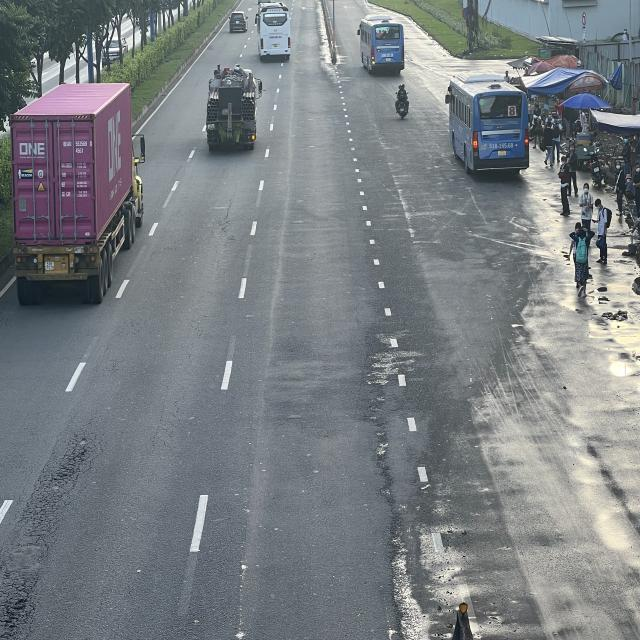car: (230, 9, 250, 33)
coach: (448, 80, 534, 177), (356, 15, 404, 76), (257, 2, 292, 64)
container: (12, 81, 144, 300)
truck: (206, 64, 263, 150)
